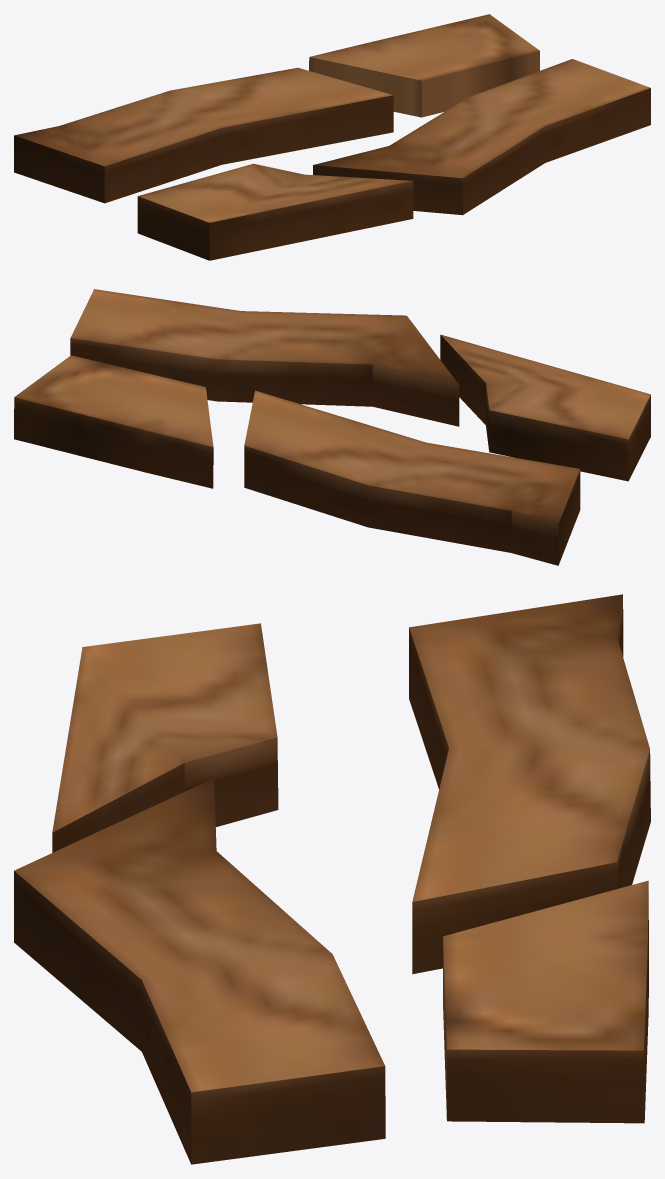
File: Battle01_BrokenStep_02.FBX
3 renders of one model, top to bottom at view 1: azimuth 30°, elevation 25°; view 2: azimuth 150°, elevation 25°; view 3: azimuth 270°, elevation 25°, orthographic. The views are drawn at different scales.
Visible parts, largest first — view 1: Battle01_BrokenStep_02; view 2: Battle01_BrokenStep_02; view 3: Battle01_BrokenStep_02.
Boxes of the visible parts, x1,y1,x2,y2 form: Battle01_BrokenStep_02: [14, 14, 650, 260]; Battle01_BrokenStep_02: [14, 289, 650, 565]; Battle01_BrokenStep_02: [14, 594, 650, 1164].
Size of the model in its own units: 6.55 by 0.4533 by 3.53.
